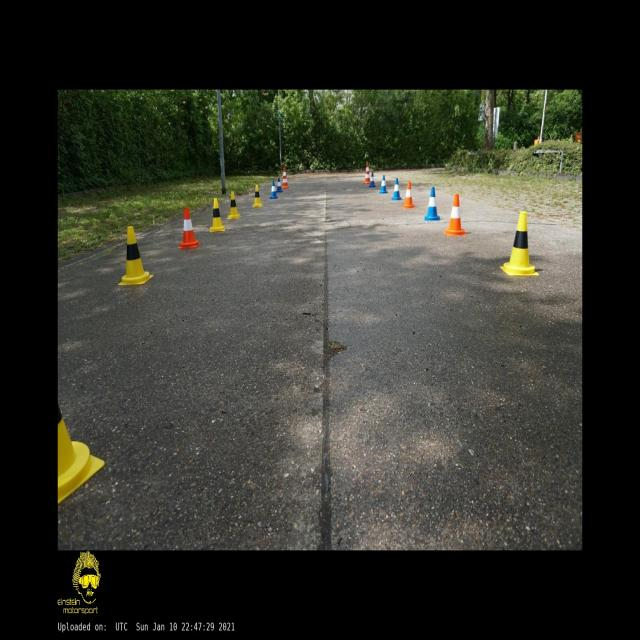blue_cone: (424, 187, 440, 220), (392, 178, 402, 200), (270, 180, 278, 199), (380, 175, 388, 193), (276, 177, 283, 193), (369, 172, 376, 187)
large_orange_cone: (363, 161, 371, 184), (281, 167, 289, 188)
orange_cone: (178, 206, 200, 248), (445, 194, 466, 235), (402, 182, 415, 208)
yellow_cone: (58, 404, 104, 504), (500, 212, 539, 275), (118, 226, 154, 283), (210, 198, 225, 232), (226, 191, 241, 219), (252, 185, 263, 208)
